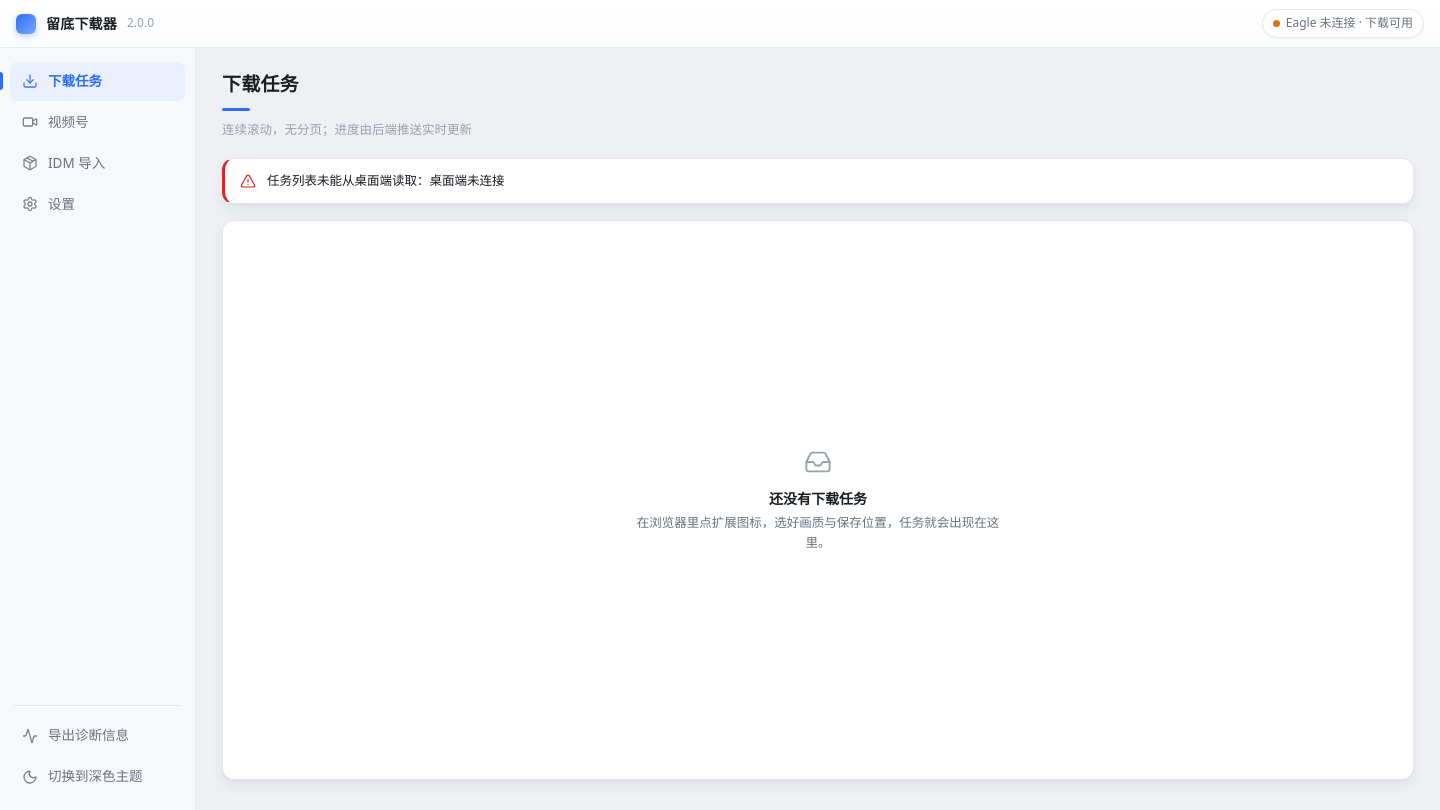
Test: 应用外壳 › 侧边栏底部的主题切换文案随主题变化，并作用于根元素（[09 §2.2]）
Click the button "切换到深色主题" at point(98, 777), box [10,757,185,796]
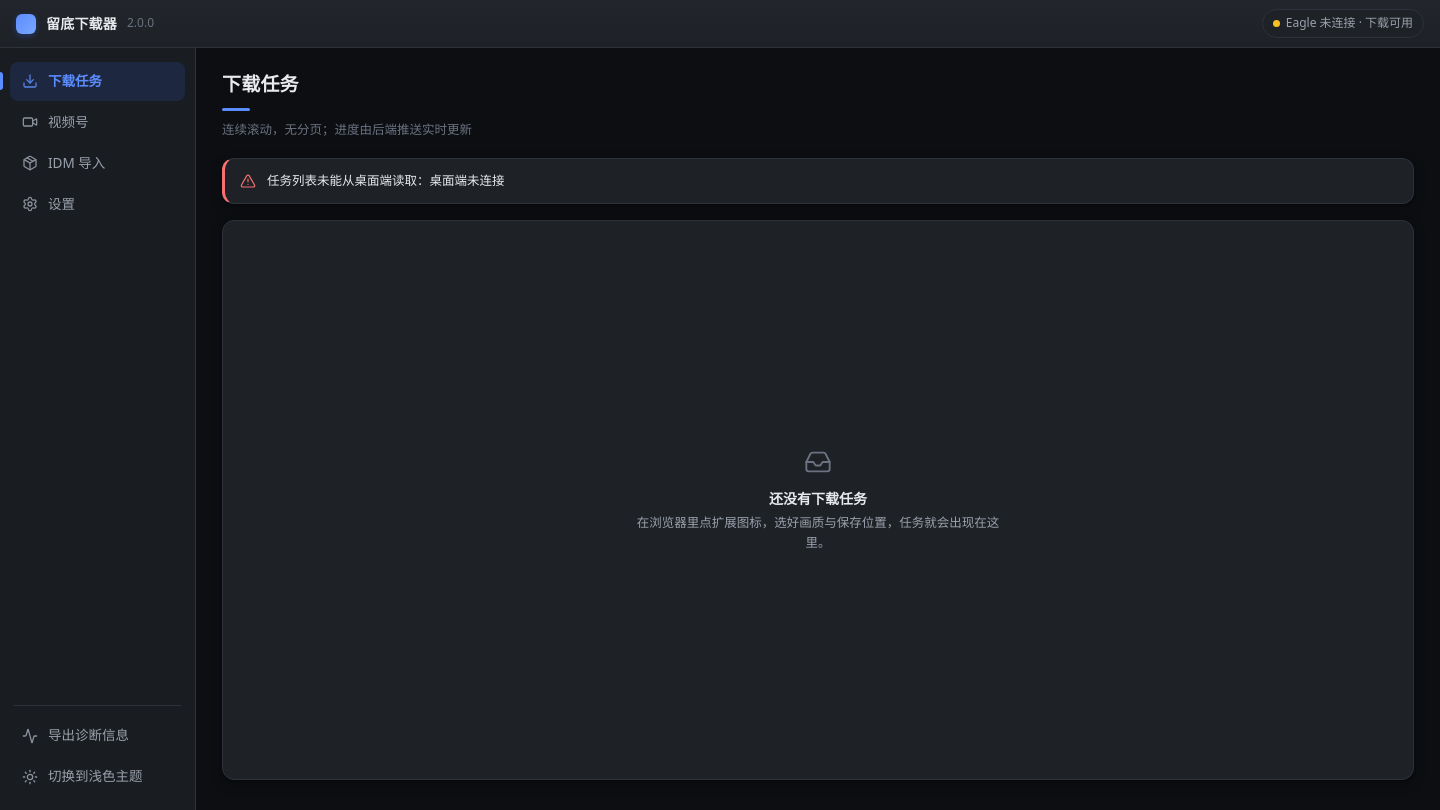
Check: the button "切换到浅色主题" is shown, box [10,757,185,796]
